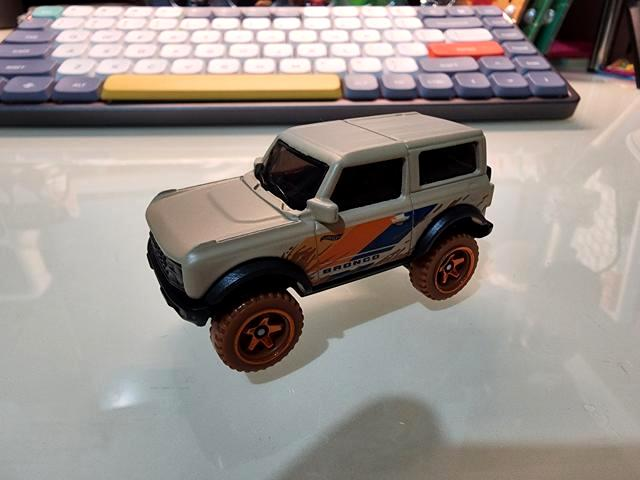toy-car: (144, 110, 495, 374)
